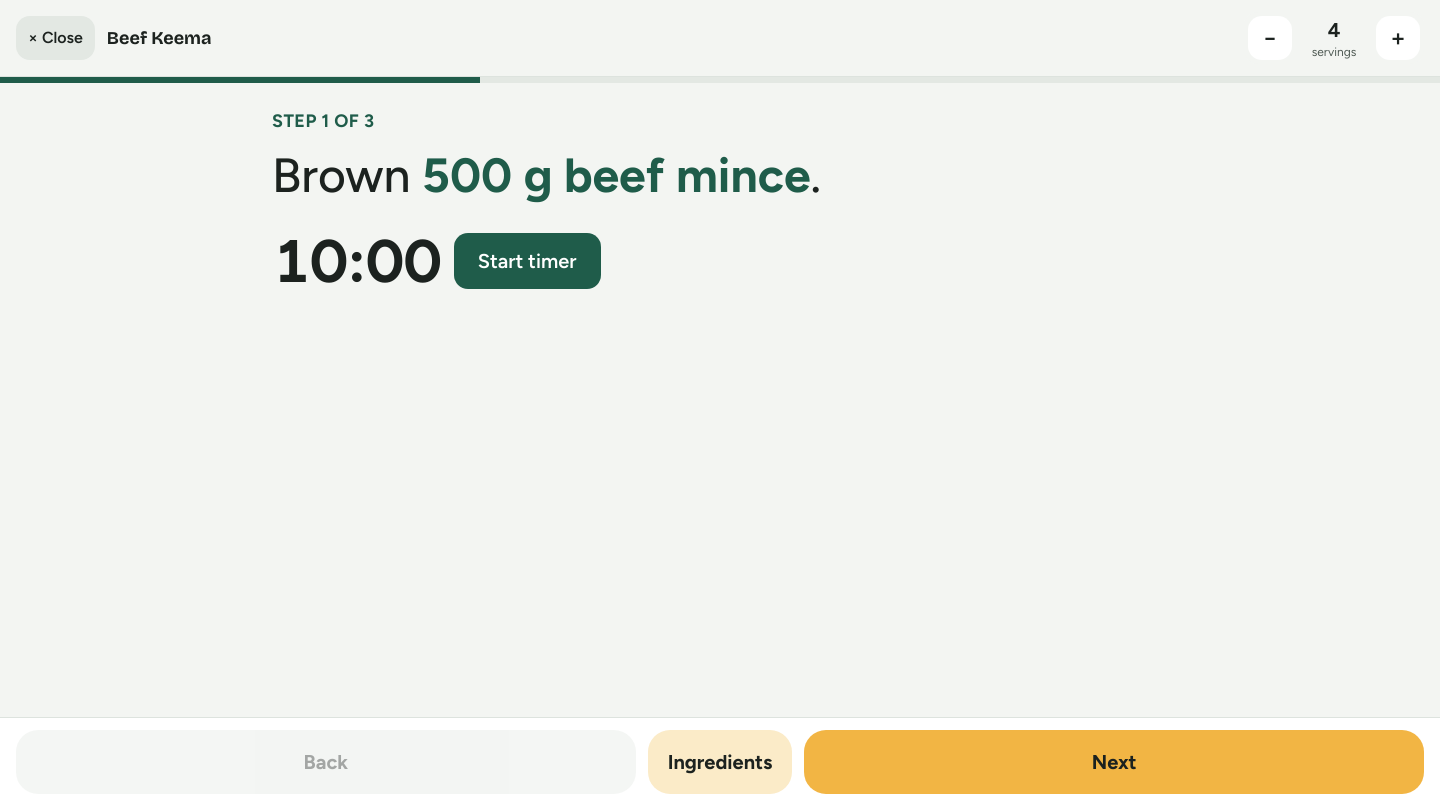
Test: CookScreen › should rescale amounts in the step text when servings change
The width and height of the screenshot is (1440, 810).
Expected: the element with test id "step-text" reads "Brown 500 g beef mince.", [272,146,821,204]
Click the button named "More servings" at (1398, 38), box [1376,16,1420,60]
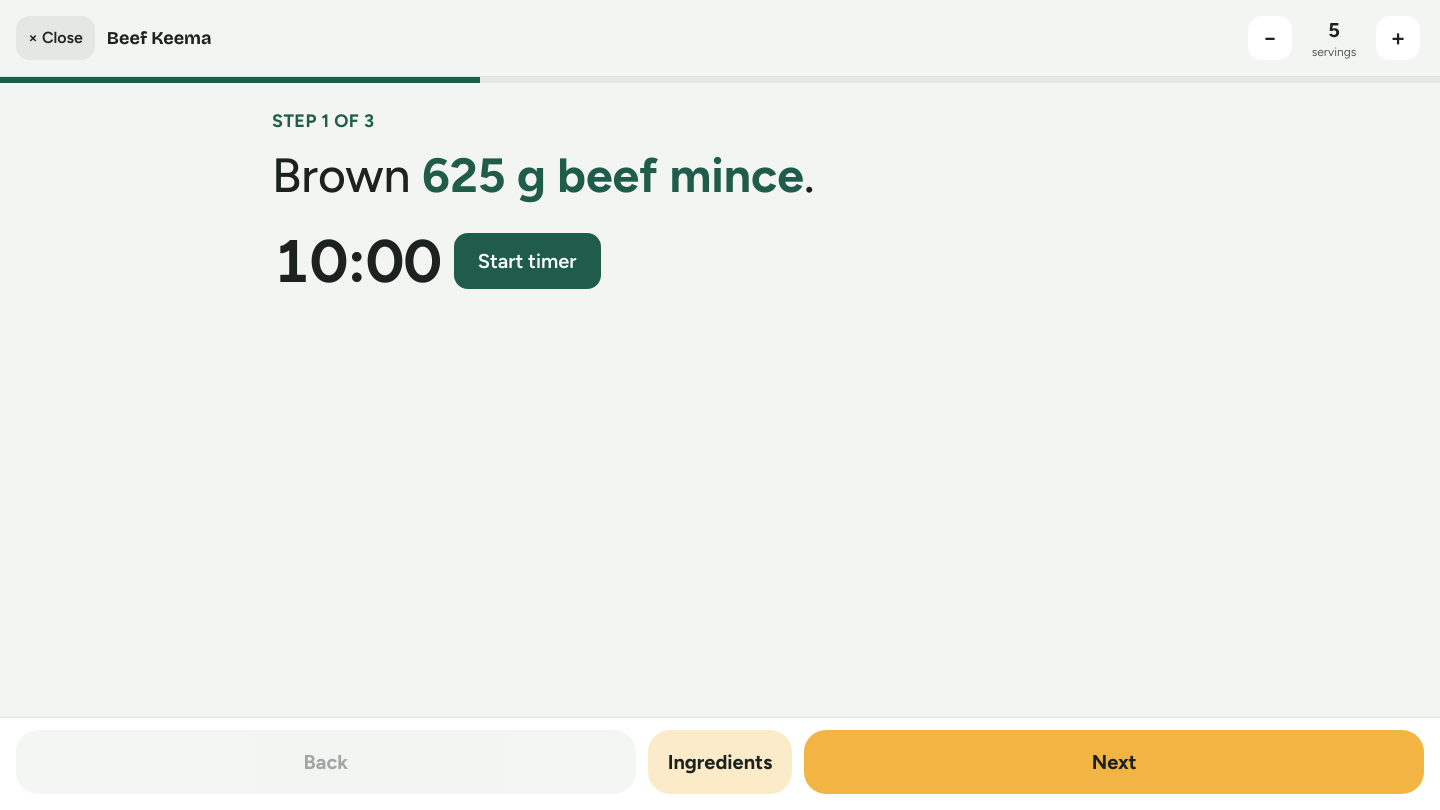
Click the button named "More servings" at (1398, 38), box [1376,16,1420,60]
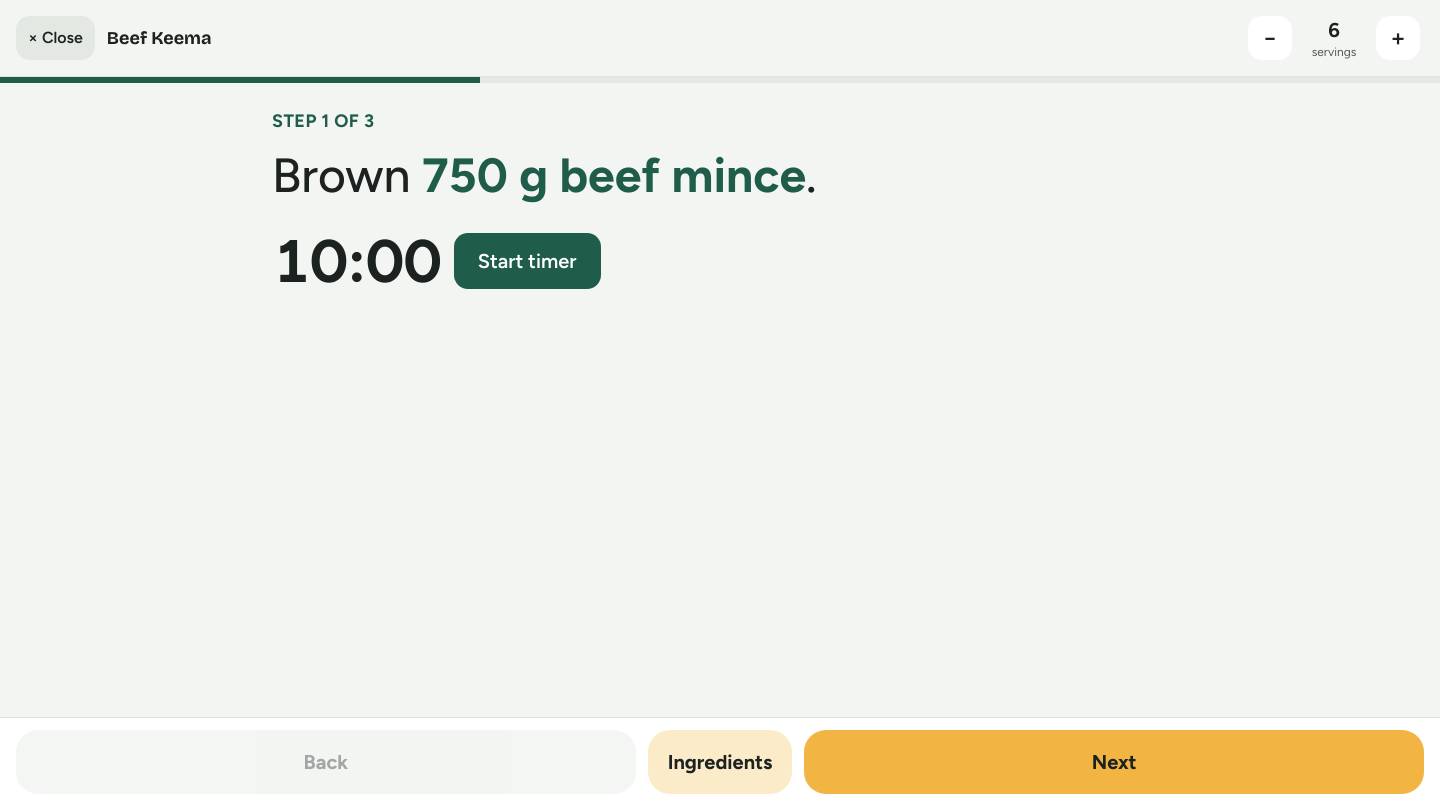
Now the text with test id "servings-value" reads "6", box [1328,18,1340,42]
Now the element with test id "step-text" reads "Brown 750 g beef mince.", box [272,146,817,204]
